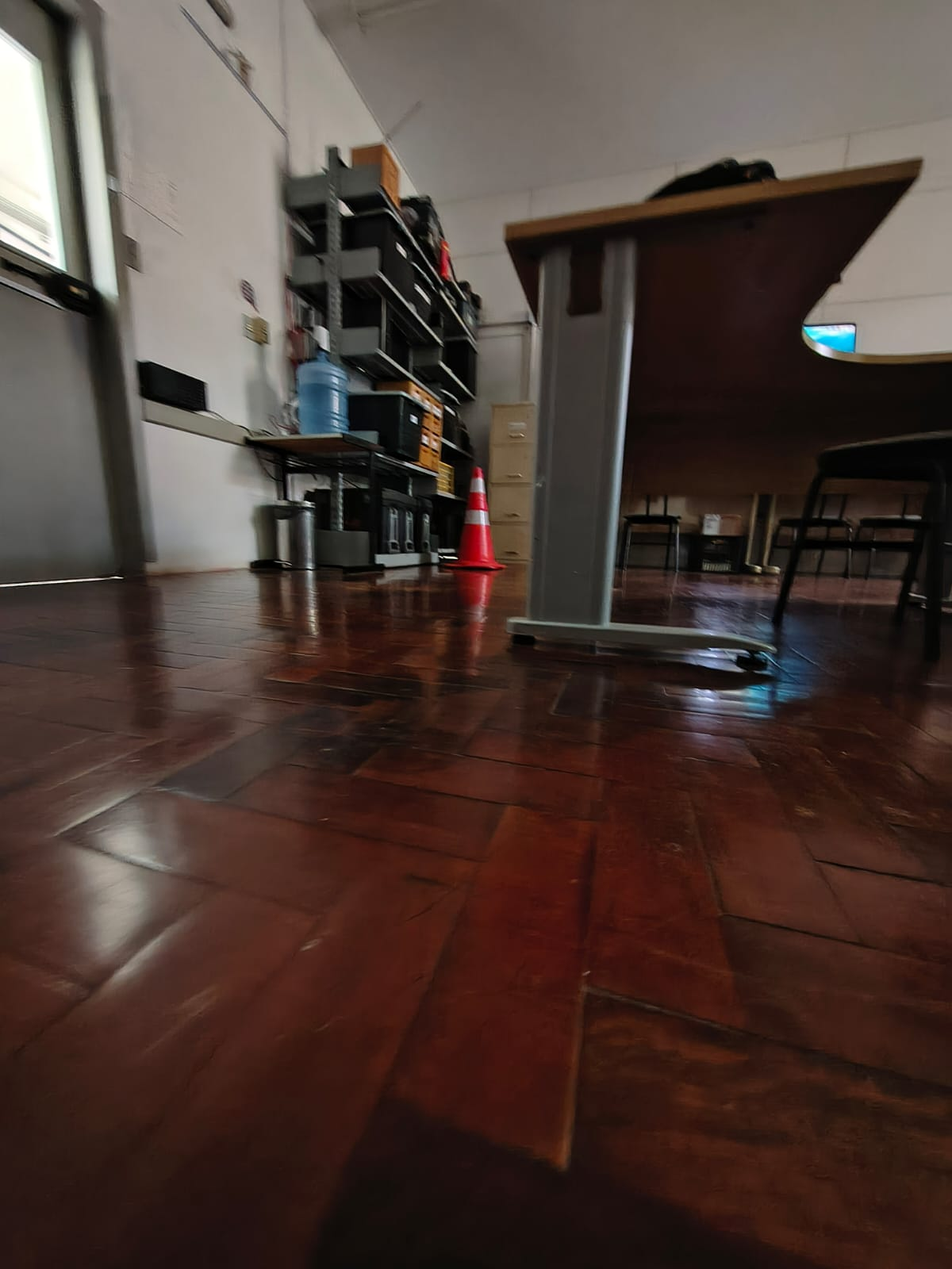cone: (450, 466, 495, 569)
